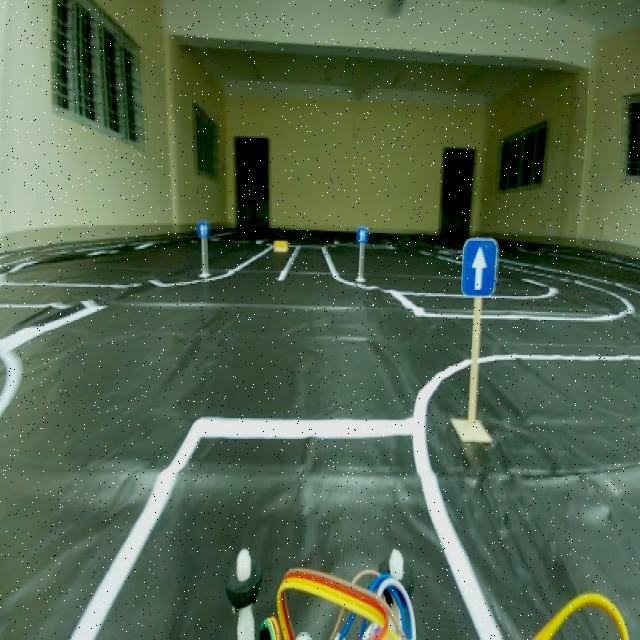onewayroad: (451, 230, 496, 306), (192, 220, 210, 241), (357, 224, 369, 248)
roadblock: (270, 237, 288, 251)
